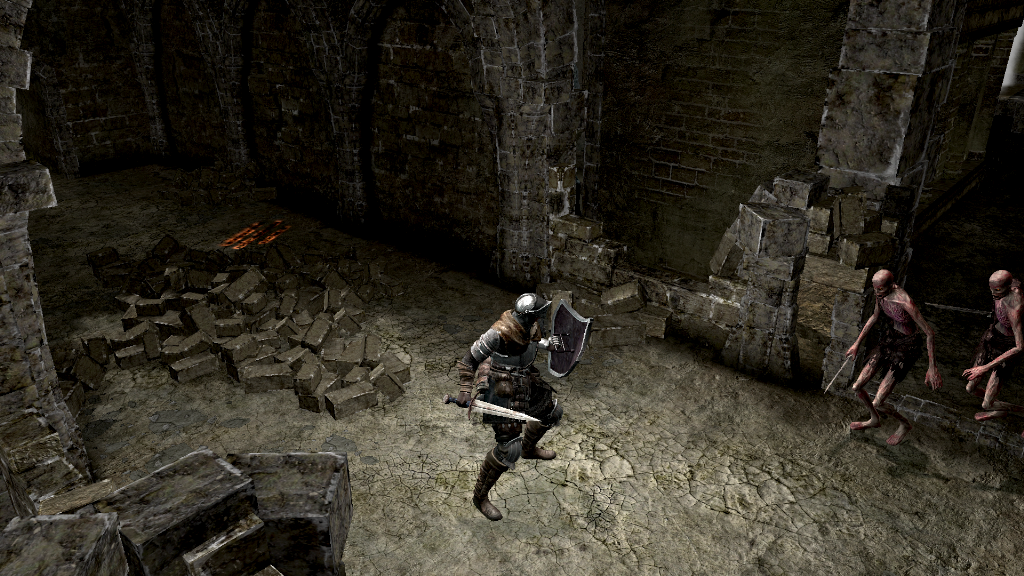hollow: (847, 268, 943, 448), (964, 269, 1024, 440)
player: (442, 291, 596, 522)
